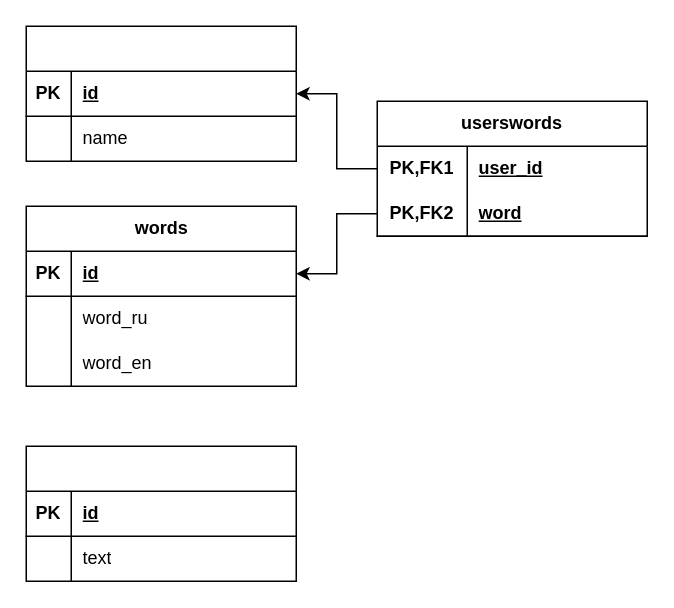
Image size: 674x608. Some labels were removed from this diagram. The shapes that lost their labels are listed below. From the top down, each one's box as (x1, y1, x2, y2) in pixels, then its label:
(25, 25, 296, 161): users
(25, 445, 296, 581): bot_messages
